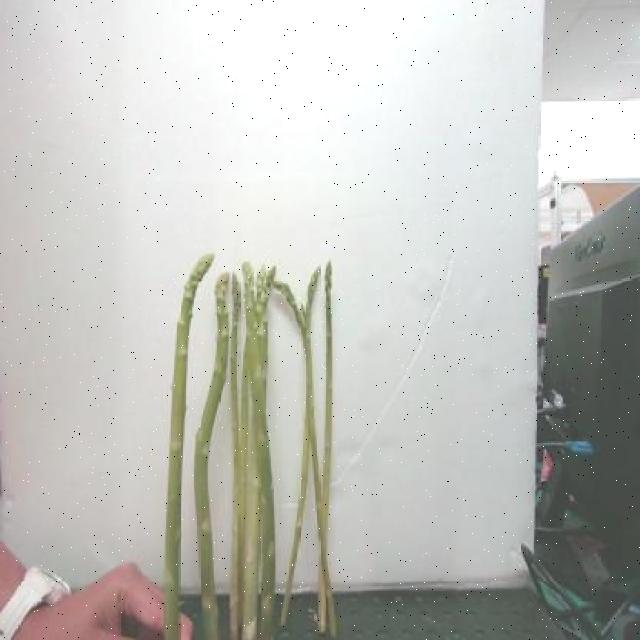aspargus: (165, 254, 214, 640)
